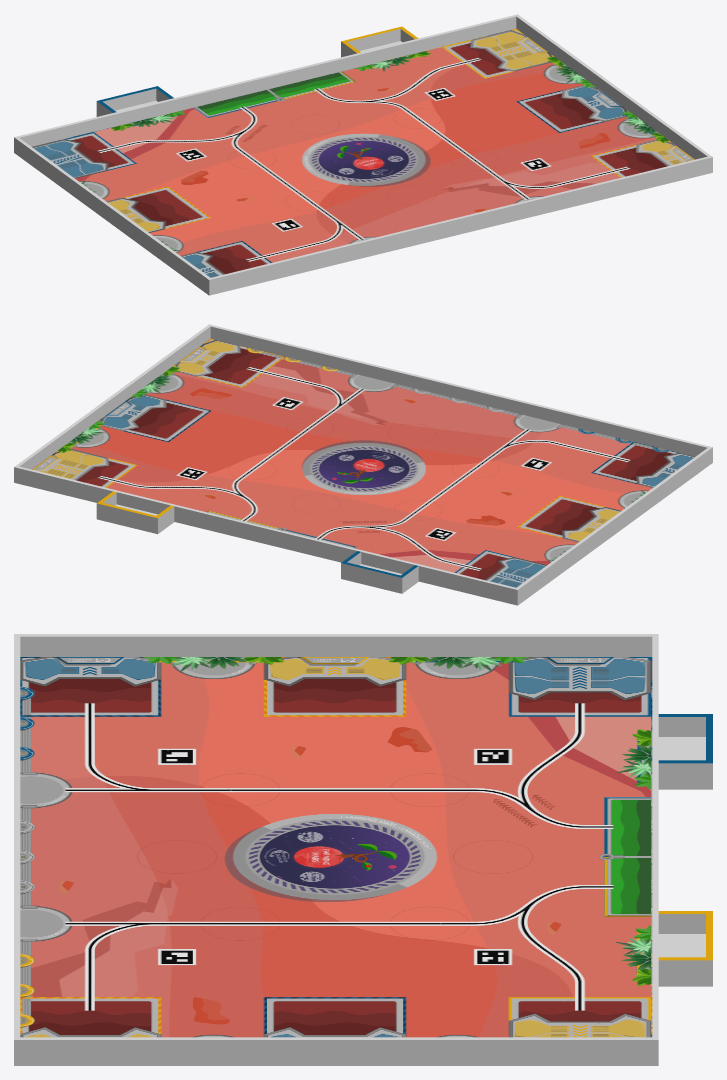
The model's file is table.glb.
3 renders of one model, top to bottom at view 1: azimuth 30°, elevation 25°; view 2: azimuth 150°, elevation 25°; view 3: azimuth 270°, elevation 25°, orthographic. The views are drawn at different scales.
Visible parts, largest first — view 1: Table; view 2: Table; view 3: Table.
Boxes of the visible parts, <box> form: Table: <box>14,14,712,295</box>; Table: <box>14,324,712,605</box>; Table: <box>14,634,712,1065</box>.
Size of the model in its own units: 3.04 by 0.092 by 2.21.
4 materials, 1 textured.
